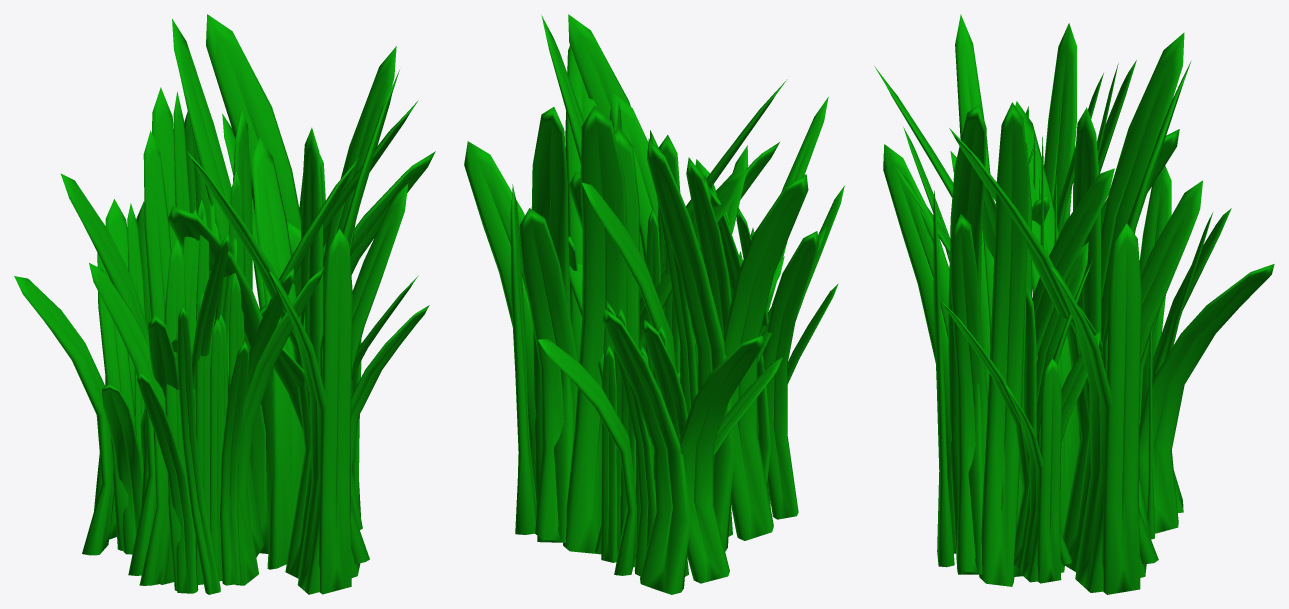
The model's file is obj_Grass_Group4.fbx.
3 views of the same model, side by side, from view 1: azimuth 30°, elevation 25°; view 2: azimuth 150°, elevation 25°; view 3: azimuth 270°, elevation 25° (orthographic). The views are drawn at different scales.
Visible parts, largest first — view 1: Grass4; view 2: Grass4; view 3: Grass4.
Boxes of the visible parts, bbox=[...] form: Grass4: bbox=[14, 14, 435, 594]; Grass4: bbox=[464, 14, 844, 594]; Grass4: bbox=[874, 14, 1274, 594].
Size of the model in its own units: 1.39 by 1.81 by 1.29.
